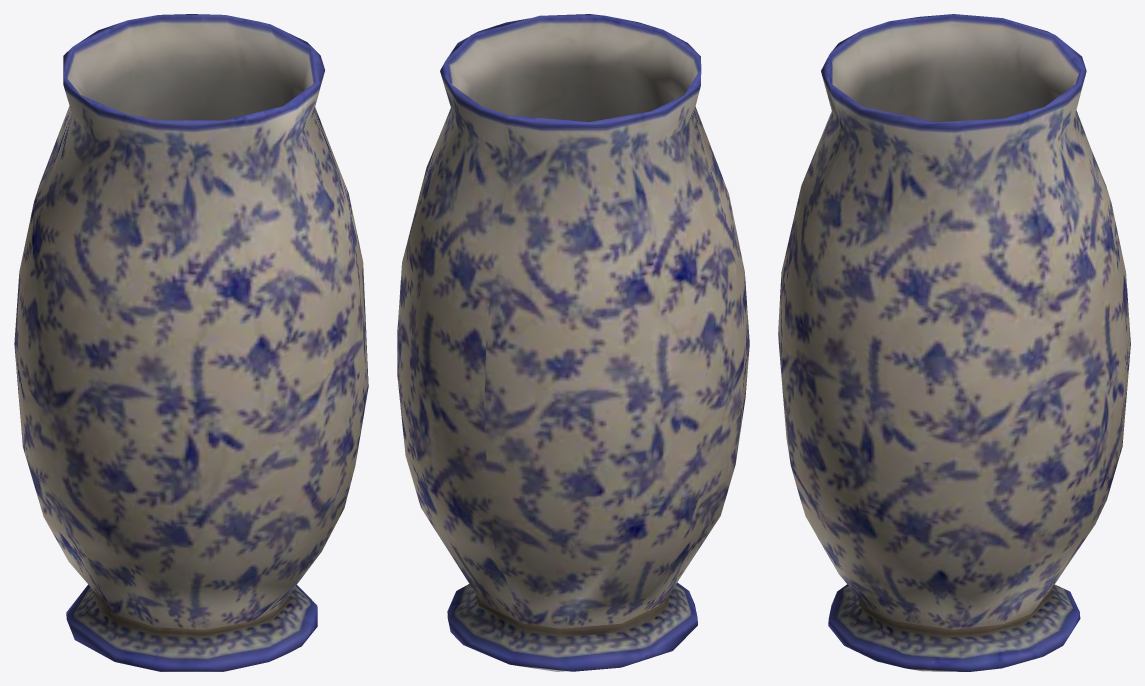
Rendered from vase_antique.glb.
The picture shows the model from 3 angles, left to right: view 1: azimuth 30°, elevation 25°; view 2: azimuth 150°, elevation 25°; view 3: azimuth 270°, elevation 25°; orthographic projection.
Parts seen in each view (by area): view 1: vase_antique; view 2: vase_antique; view 3: vase_antique.
Boxes of the visible parts, x1,y1,x2,y2 form: vase_antique: (14, 14, 368, 671); vase_antique: (397, 14, 749, 671); vase_antique: (778, 14, 1130, 671).
Size of the model in its own units: 0.2539 by 0.4396 by 0.2539.
1 material, 1 textured.
